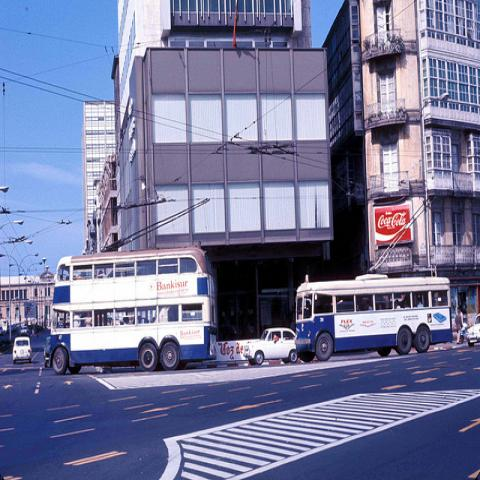bus: (50, 239, 220, 374), (294, 273, 458, 368)
car: (244, 328, 298, 366), (12, 336, 32, 364), (466, 312, 480, 348)
